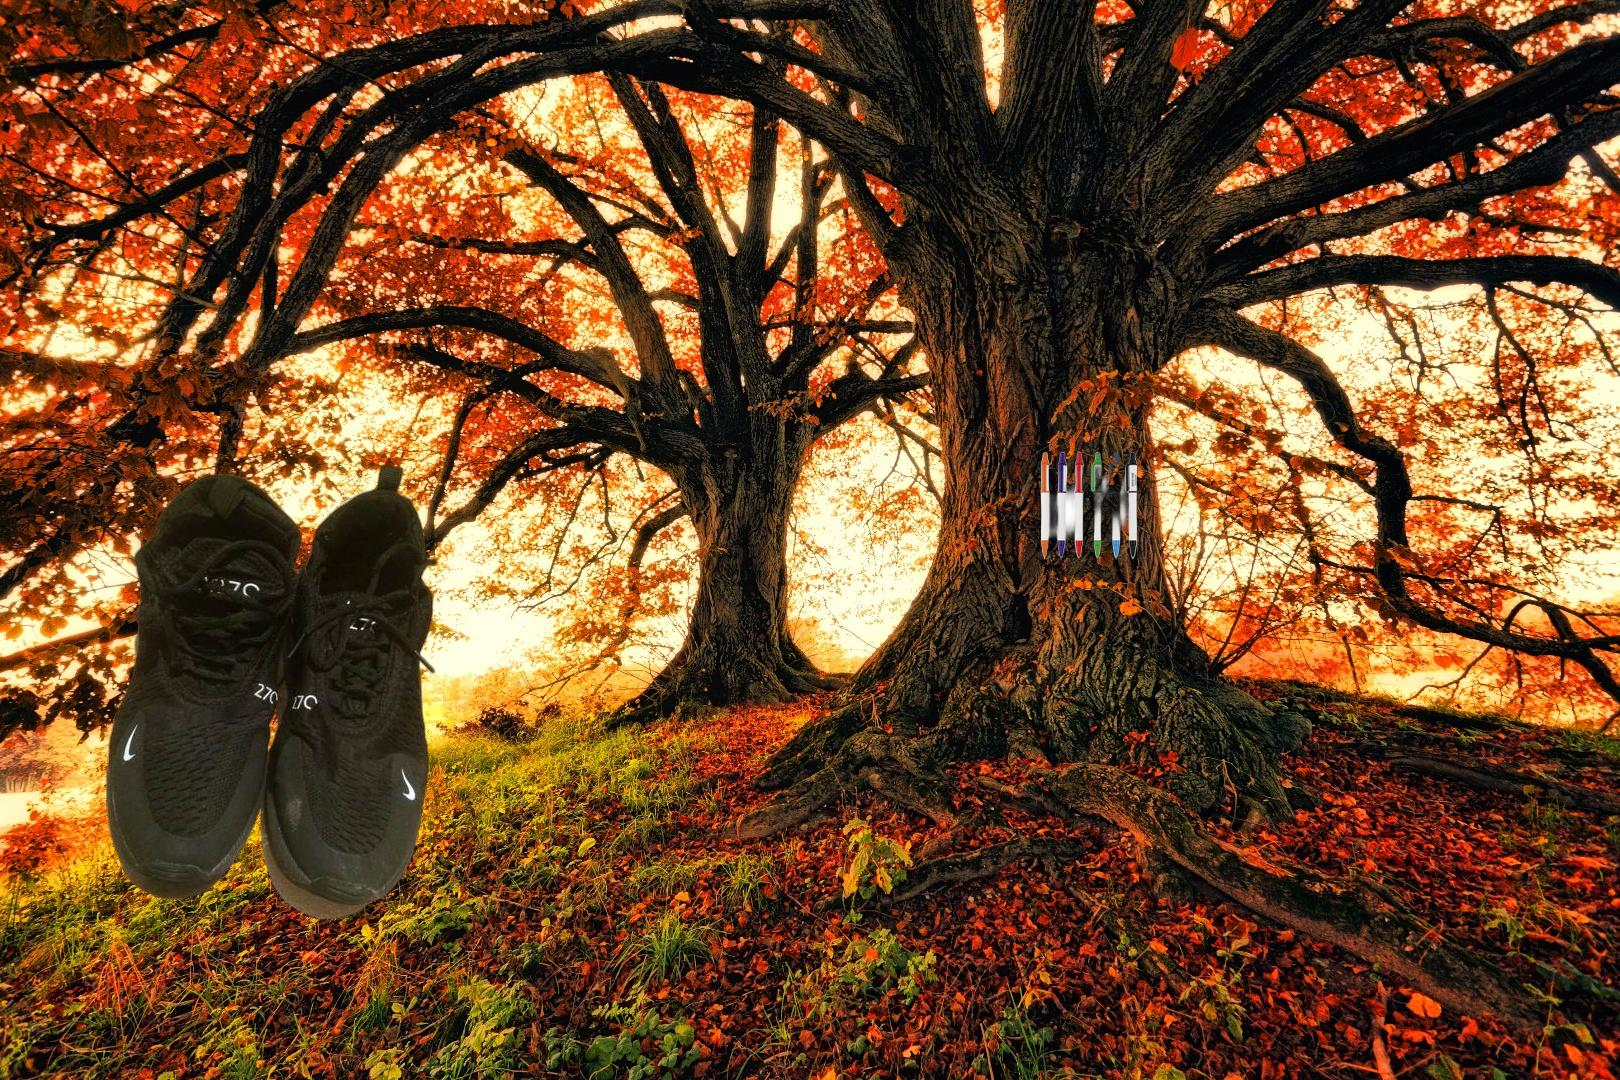penholder: (1038, 450, 1151, 563)
shoes: (104, 441, 441, 925)
